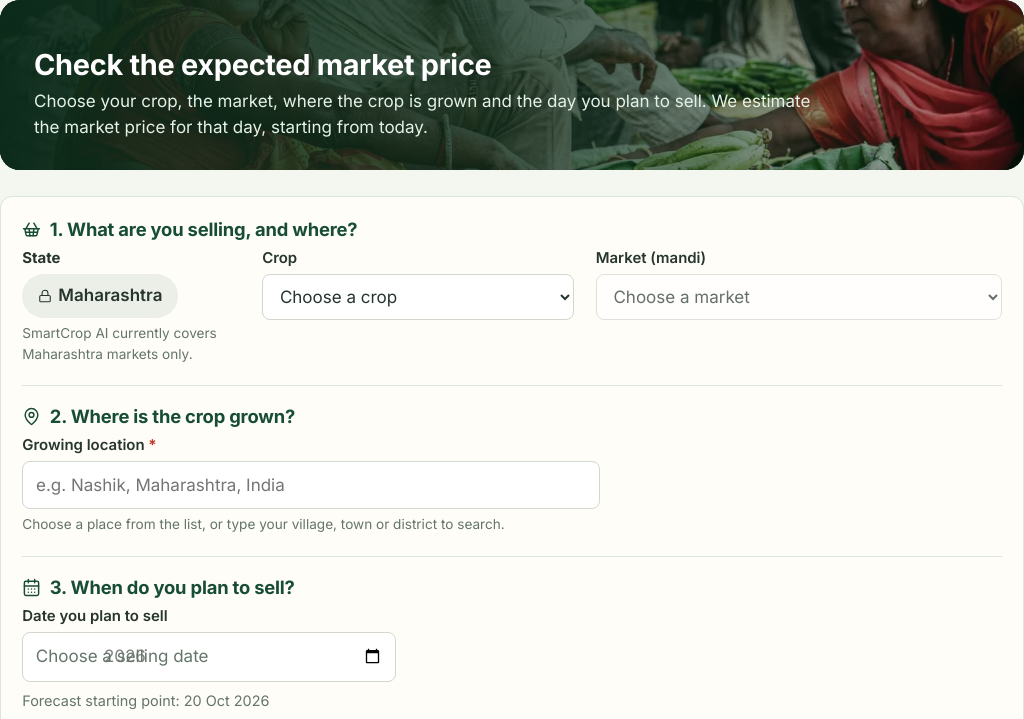
growing location suggestions › clicking the field shows popular Maharashtra places at once, in the agreed order
Expected: the dropdown labelled "Crop" is shown, [262,274,574,320]
Focus the dropdown labelled "Growing location *" at (311, 485), box [22,461,600,509]
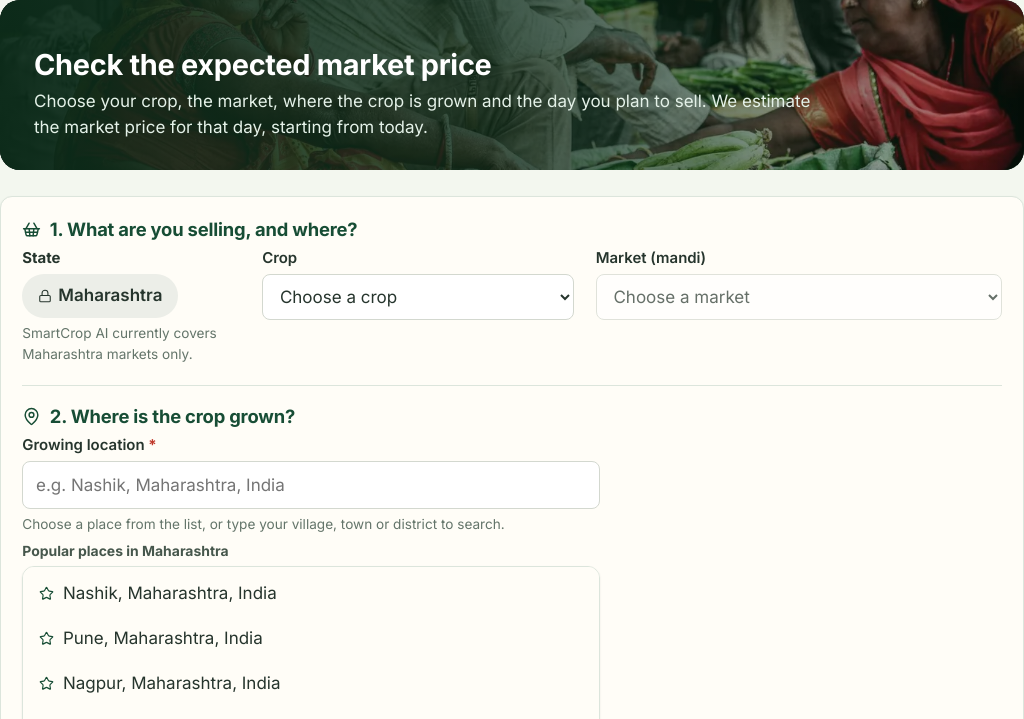
Expected: the text "Popular places in Maharashtra" is shown, [22,542,229,559]
